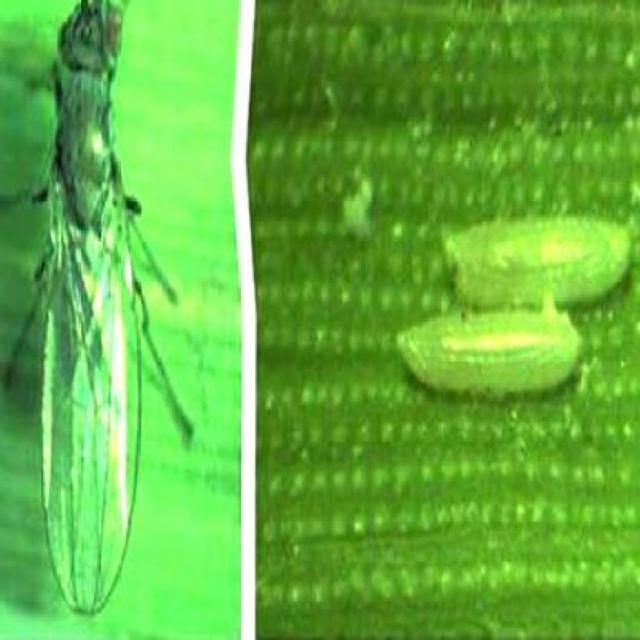whorl-maggot: (440, 208, 637, 309), (397, 306, 589, 408)
